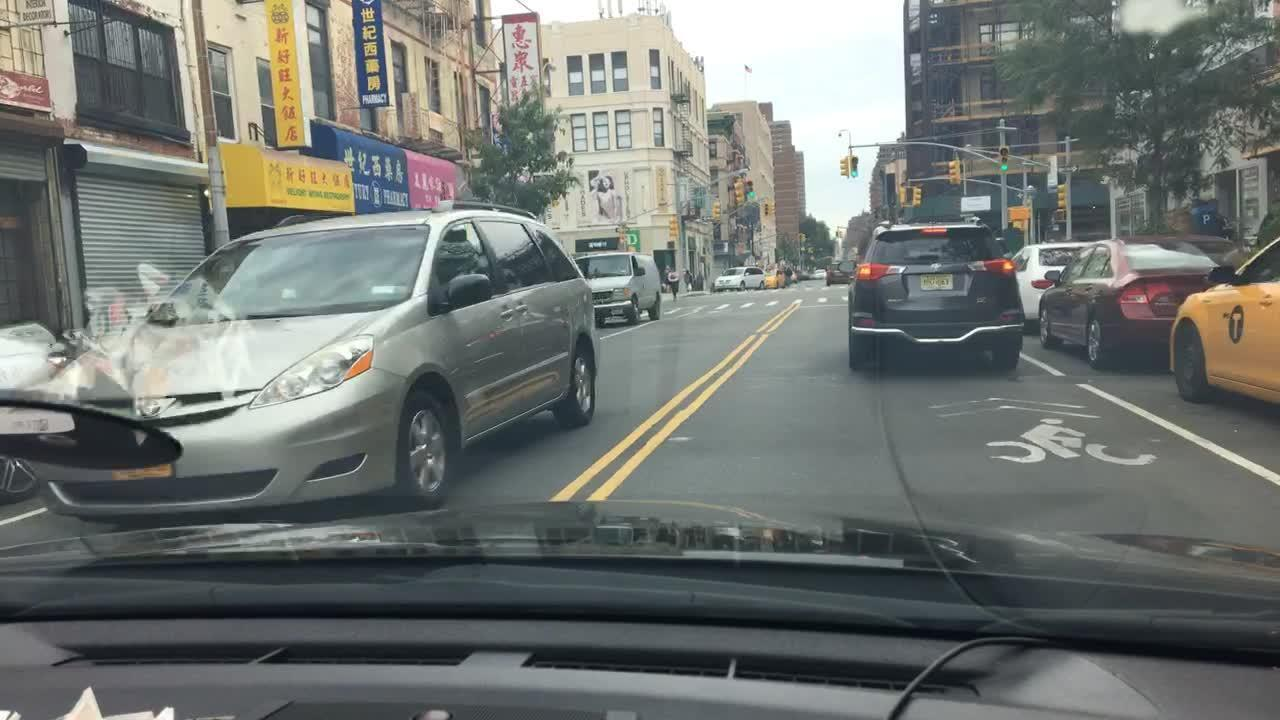Toyota: (927, 260, 946, 275)
subaru: (131, 397, 163, 420)
